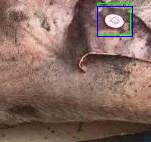text: (97, 3, 130, 34)
